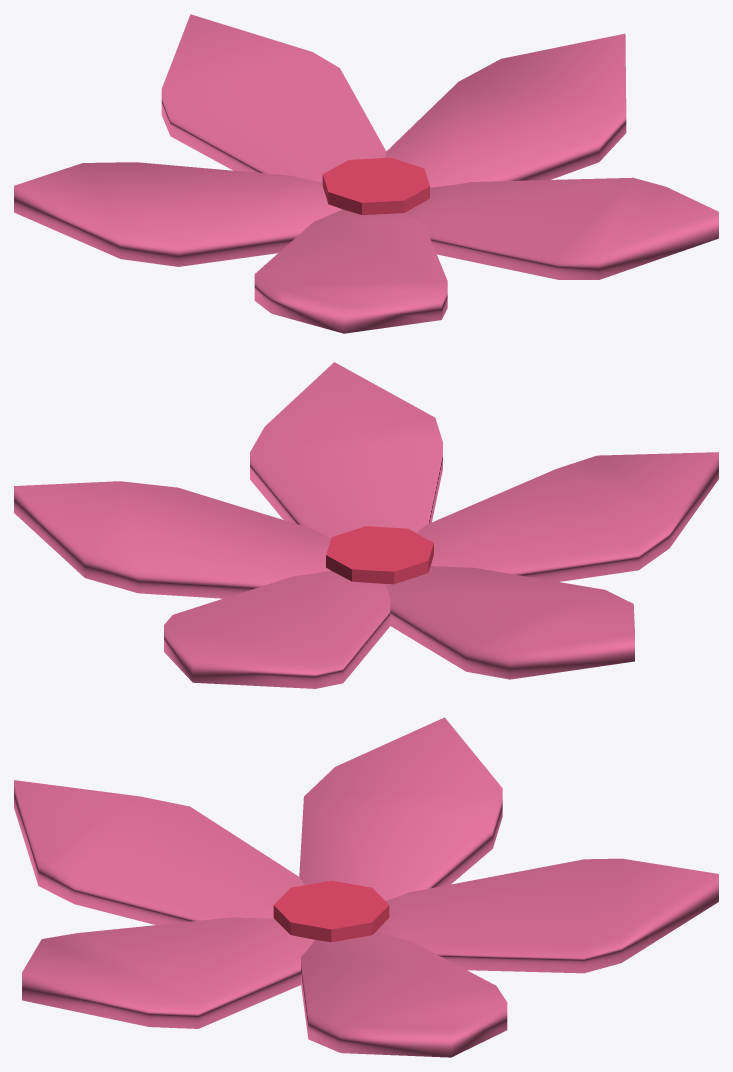
File: Flower_Pink_5.fbx
3 renders of one model, top to bottom at view 1: azimuth 30°, elevation 25°; view 2: azimuth 150°, elevation 25°; view 3: azimuth 270°, elevation 25°, orthographic. The views are drawn at different scales.
Visible parts, largest first — view 1: Cube.084, Cylinder.615; view 2: Cube.084, Cylinder.615; view 3: Cube.084, Cylinder.615.
Boxes of the visible parts, bbox=[...] form: Cube.084: bbox=[14, 14, 718, 333]; Cylinder.615: bbox=[322, 157, 429, 214]; Cube.084: bbox=[14, 362, 718, 688]; Cylinder.615: bbox=[326, 526, 433, 584]; Cube.084: bbox=[14, 717, 718, 1057]; Cylinder.615: bbox=[273, 880, 389, 942].
Bounding box in the file's own units: 71.56 × 7.88 × 68.25.
